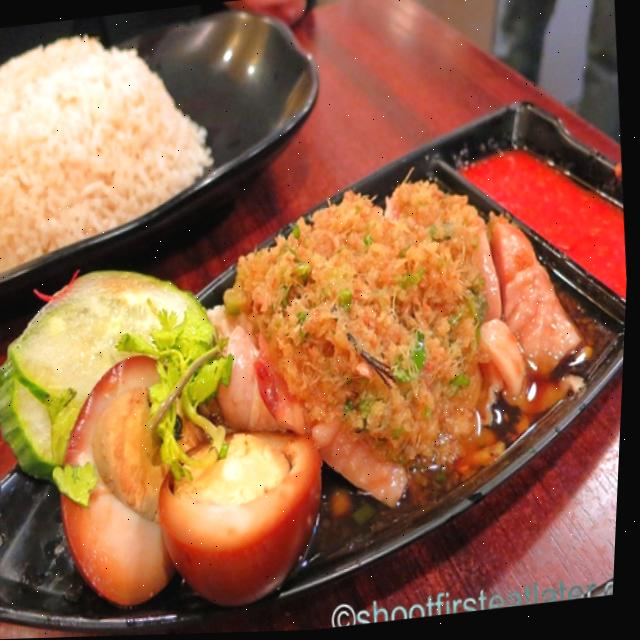米饭主食: (0, 3, 639, 640)
